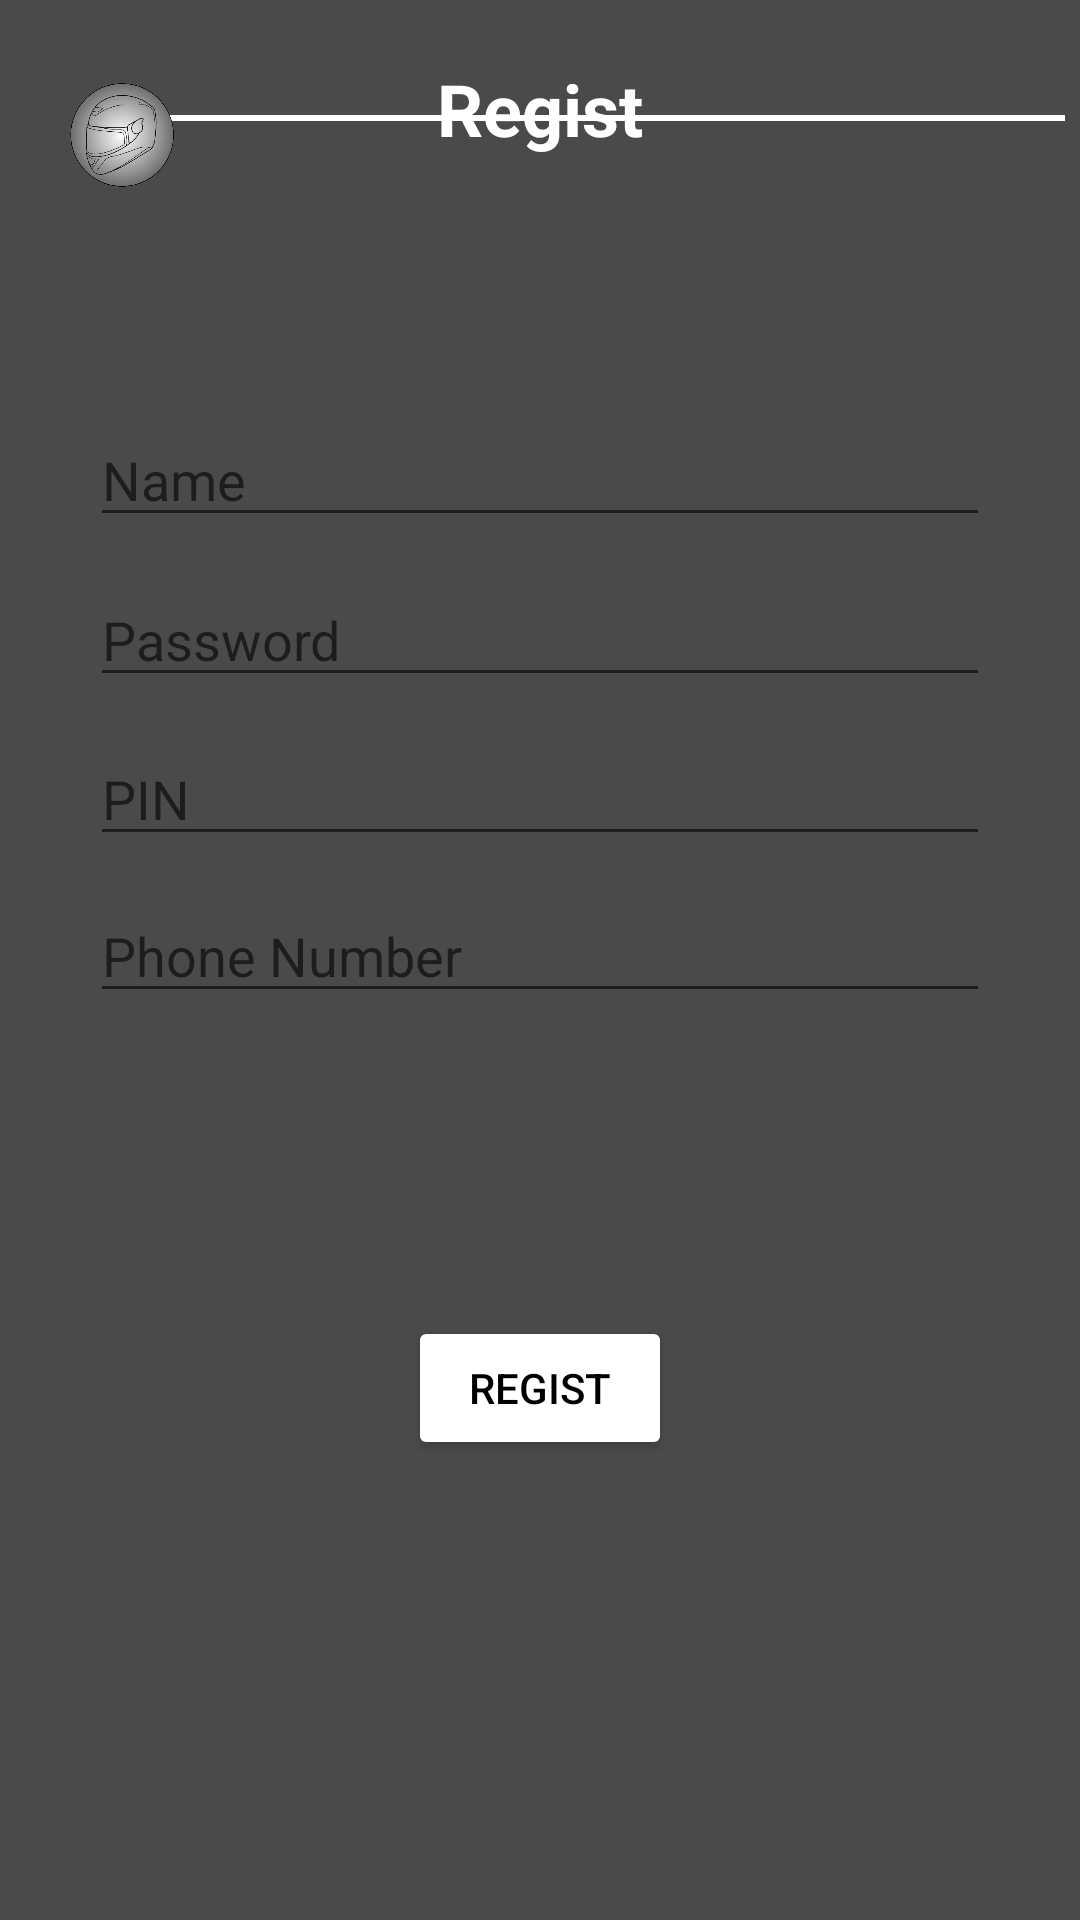

Icons on this 1080×1920 Android screen, each with its box as rect(x1, y1, x2, y2):
capacet: rect(70, 83, 216, 187)
